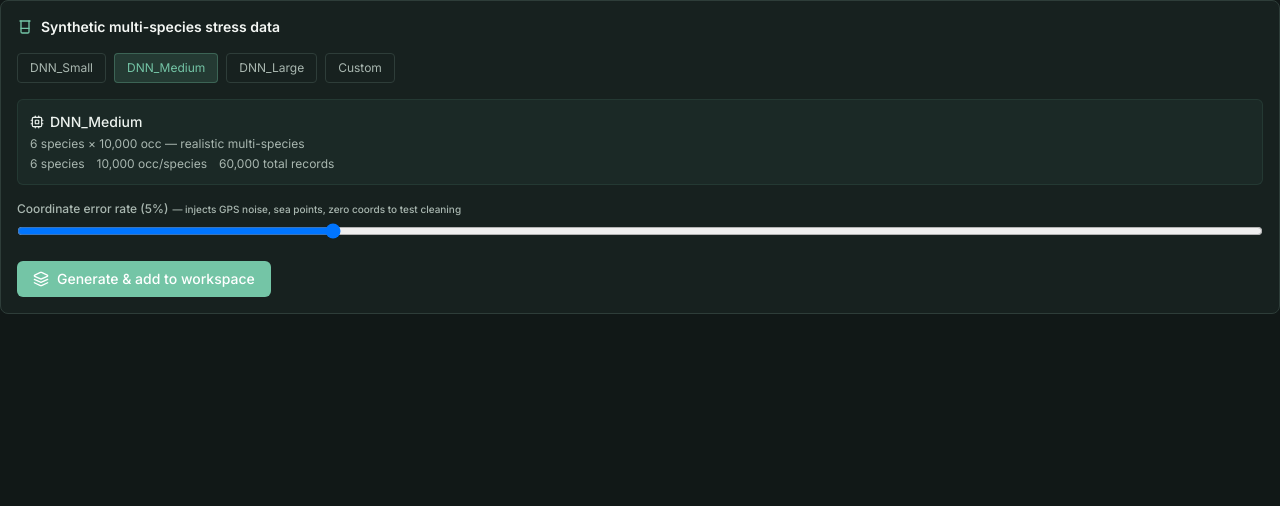
Test case: SyntheticStressPanel workspace completion feedback › shows completion only after workspace add succeeds
Click the button "DNN_Small".
click(62, 68)  # box [17,53,106,83]
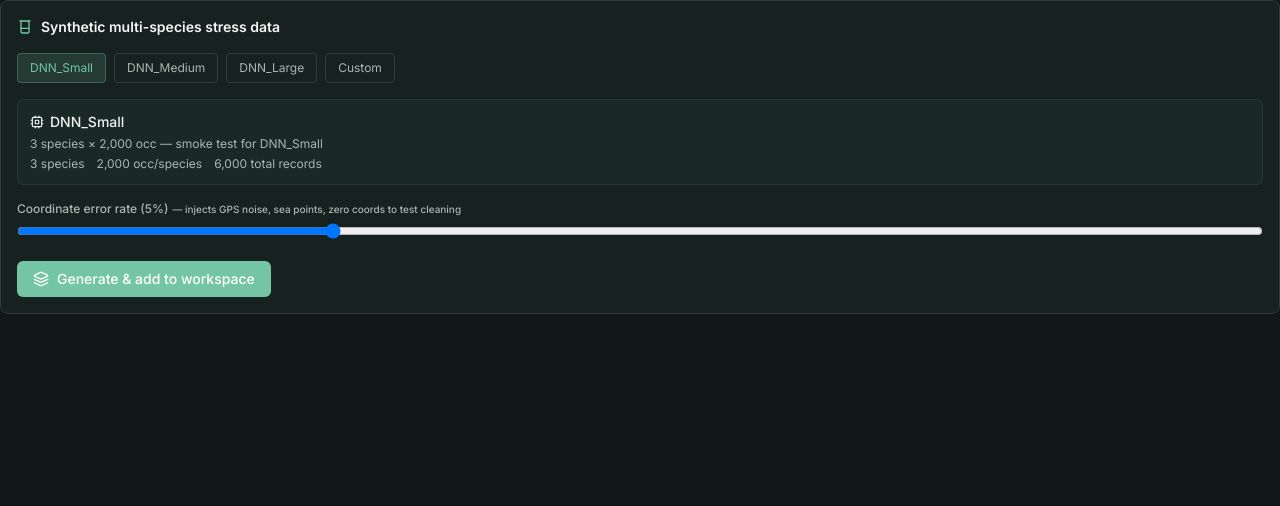
Click the button "Generate & add to workspace".
click(144, 279)  # box [17,261,271,297]
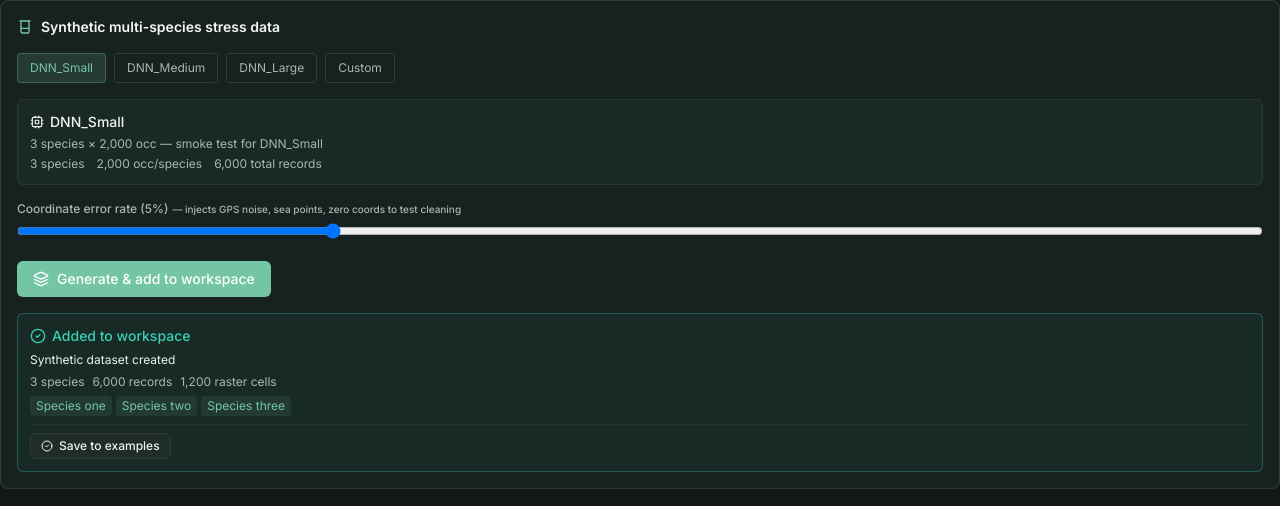
Result: the text "Added to workspace" is shown at [30,327,190,344]
